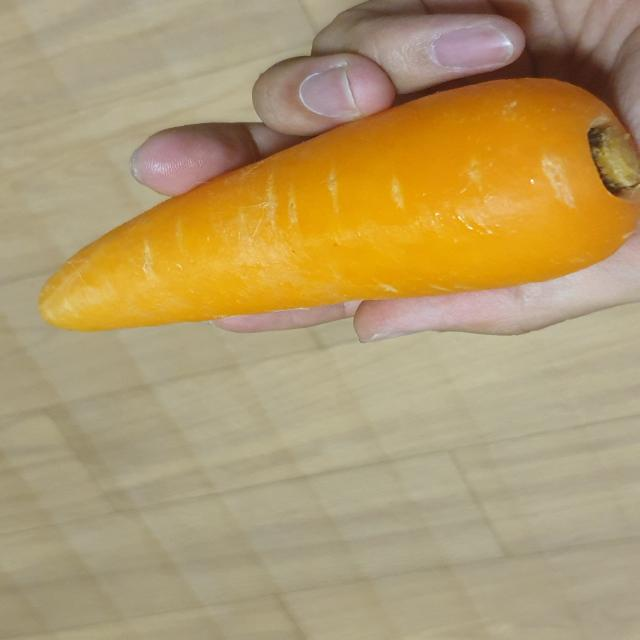Carrot: (28, 70, 640, 342)
